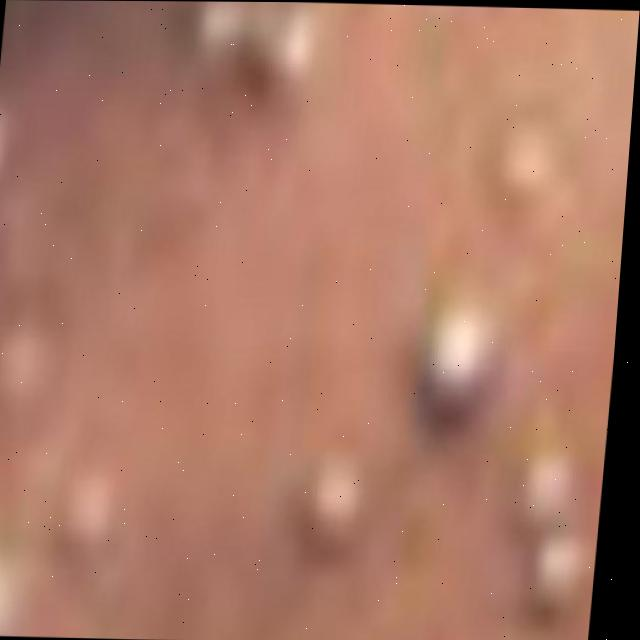Eczema: (0, 10, 639, 640)
